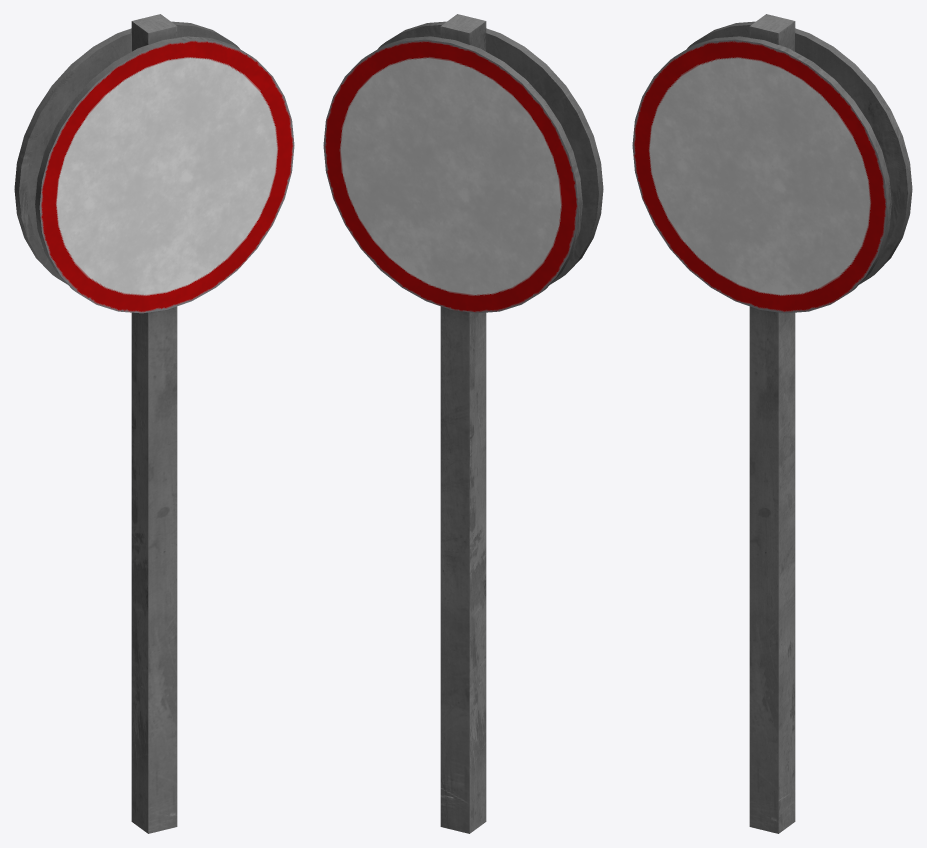
The model's file is TrafficSignRound (1).fbx.
The picture shows the model from 3 angles, left to right: view 1: azimuth 30°, elevation 25°; view 2: azimuth 150°, elevation 25°; view 3: azimuth 330°, elevation 25°; orthographic projection.
Visible parts, largest first — view 1: TraficSignRound; view 2: TraficSignRound; view 3: TraficSignRound.
Part boxes in pixels (x1,y1,x2,y2): TraficSignRound: [14, 14, 294, 833]; TraficSignRound: [323, 14, 603, 833]; TraficSignRound: [632, 14, 912, 833].
Bounding box in the file's own units: 81.17 × 244 × 13.86.
